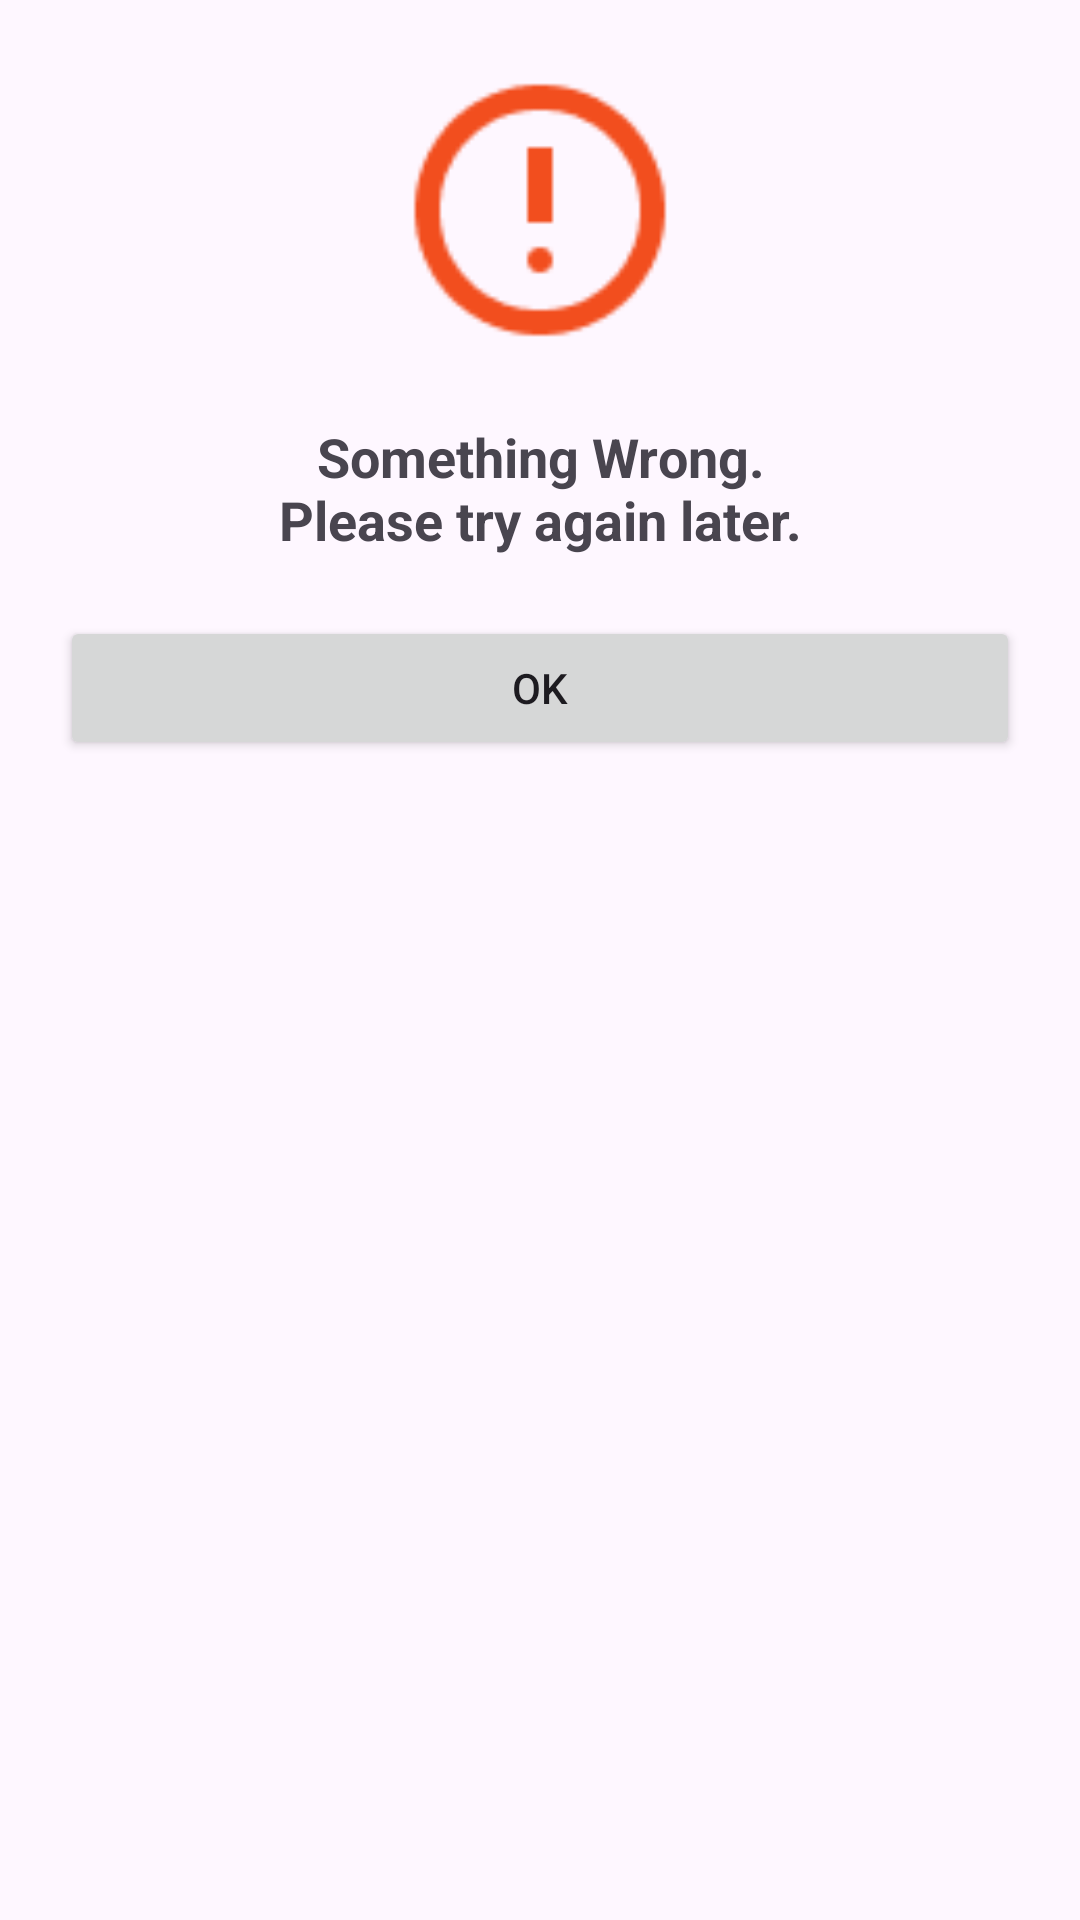

Icon bounding boxes for this 1080x1920 phone screenshot, format {"left": x1, "top": y1, "right": x2, "bottom": y2}:
error: {"left": 413, "top": 83, "right": 667, "bottom": 337}
